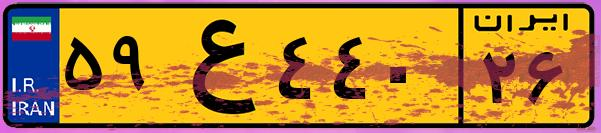0: (385, 28, 445, 110)
2: (475, 38, 525, 113)
4: (270, 28, 330, 110), (330, 28, 385, 110)
5: (57, 26, 110, 100)
6: (525, 38, 570, 115)
9: (110, 28, 158, 98)
ع: (158, 12, 270, 120)
